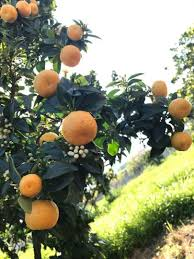orange: (59, 110, 97, 149), (21, 202, 60, 229), (31, 69, 62, 100), (165, 96, 192, 125), (56, 44, 82, 70), (17, 175, 43, 199), (170, 131, 192, 154)
